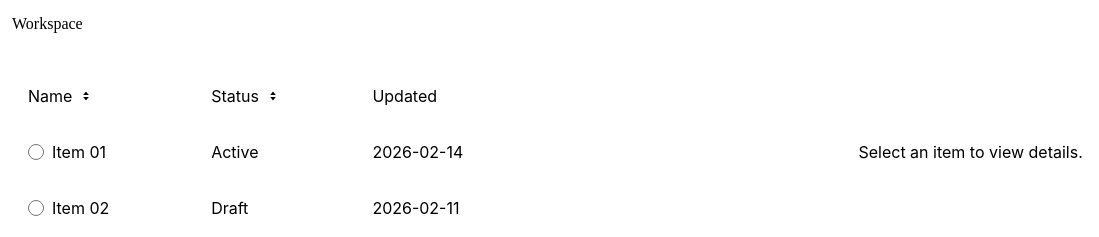
Scenario: DataDetailsWorkspace › populates the detail panel when a row is selected
Check: the element "details" reads "Select an item to view details.", box [858,142,1083,162]
Click the text "Item 01": {"x": 79, "y": 152} [52,140,106,164]
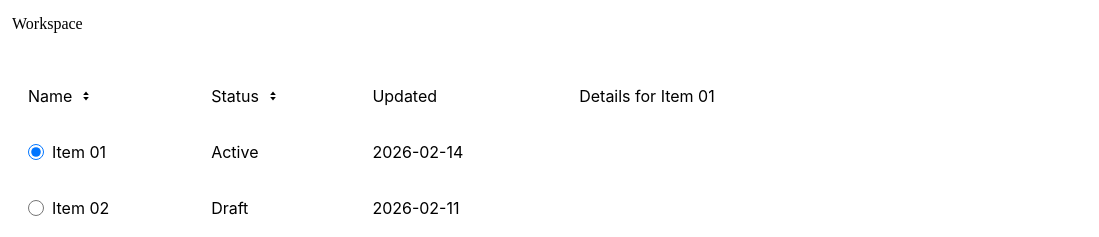
Check: the text "Details for Item 01" is shown, box [579,86,715,106]
Check: the text "Select an item to view details." is gone
Click the text "Item 02": {"x": 81, "y": 208} [52,196,109,220]
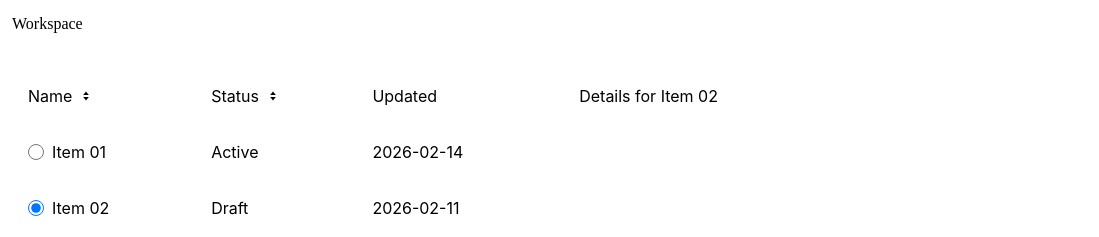
Check: the text "Details for Item 02" is shown, box [579,86,718,106]
